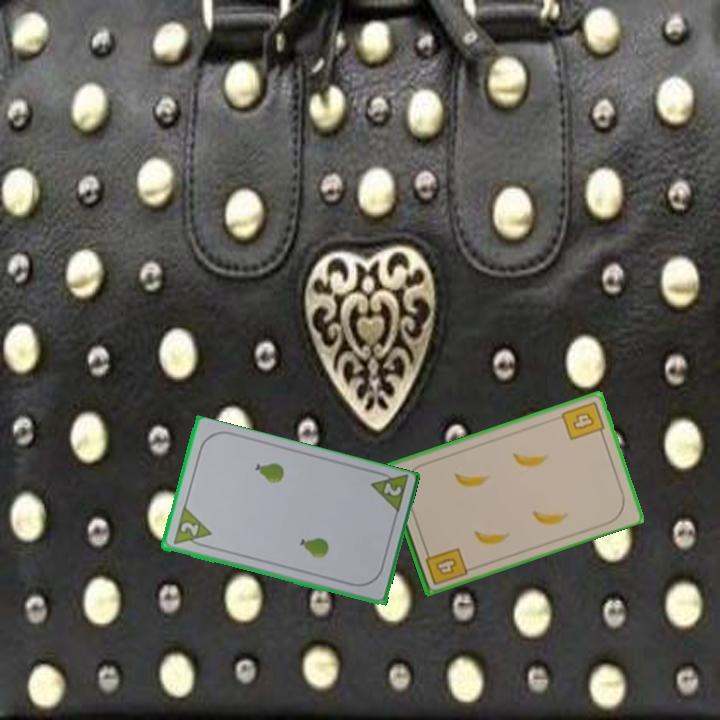2p: (366, 467, 411, 518), (169, 505, 214, 551)
4b: (558, 397, 608, 443), (421, 544, 470, 588)
